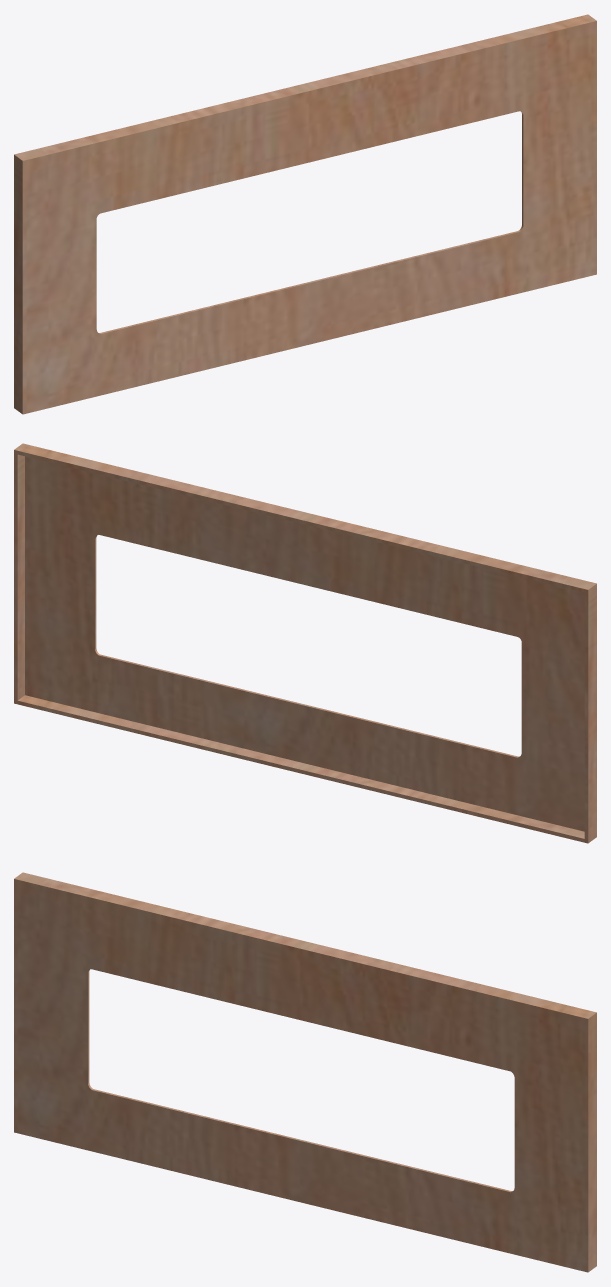
The model's file is original-2.obj.
3 views of the same model, one above another, from view 1: azimuth 30°, elevation 25°; view 2: azimuth 150°, elevation 25°; view 3: azimuth 330°, elevation 25° (orthographic).
Visible parts, largest first — view 1: Group2/mesh5/mesh5-geometry#mesh5-geometry; view 2: Group2/mesh5/mesh5-geometry#mesh5-geometry; view 3: Group2/mesh5/mesh5-geometry#mesh5-geometry.
Part boxes in pixels (x1,y1,x2,y2): Group2/mesh5/mesh5-geometry#mesh5-geometry: (14,14,596,414); Group2/mesh5/mesh5-geometry#mesh5-geometry: (14,443,596,843); Group2/mesh5/mesh5-geometry#mesh5-geometry: (14,872,596,1272).
Size of the model in its own units: 1.05 by 0.4445 by 0.028.
